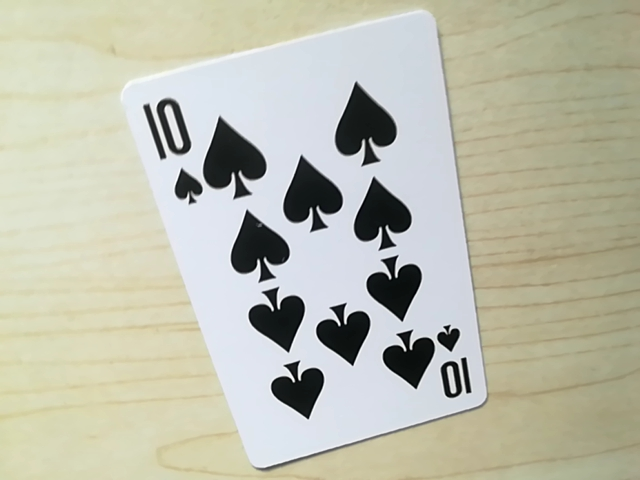ht 10: (146, 88, 207, 206), (428, 331, 475, 406)
